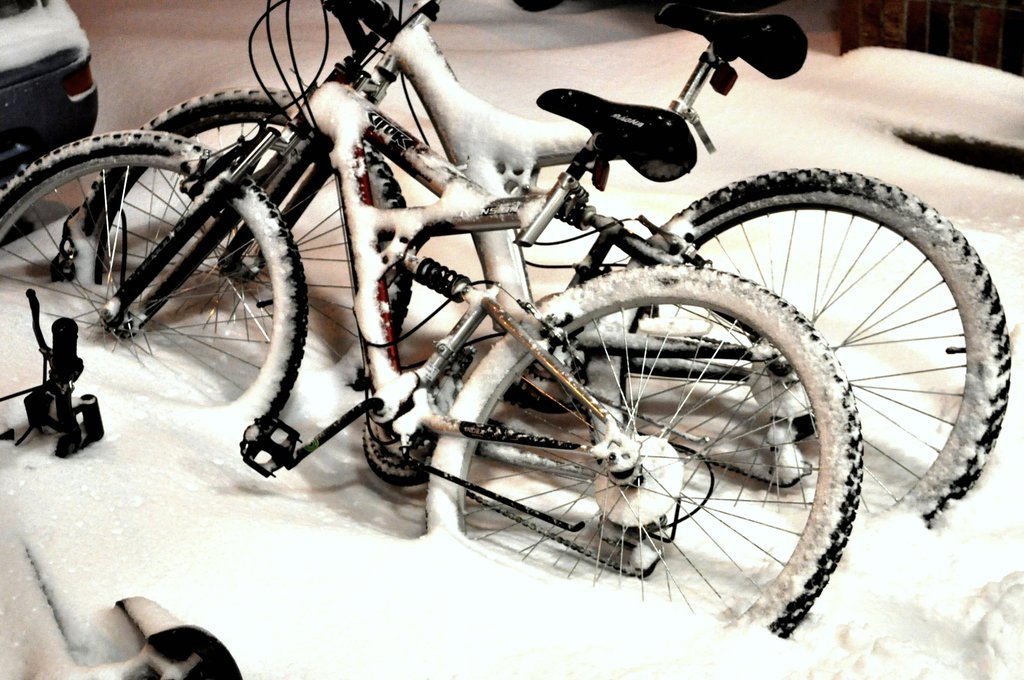Bike_away: (22, 79, 860, 680)
